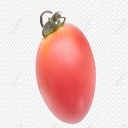tomato: (36, 23, 96, 123)
